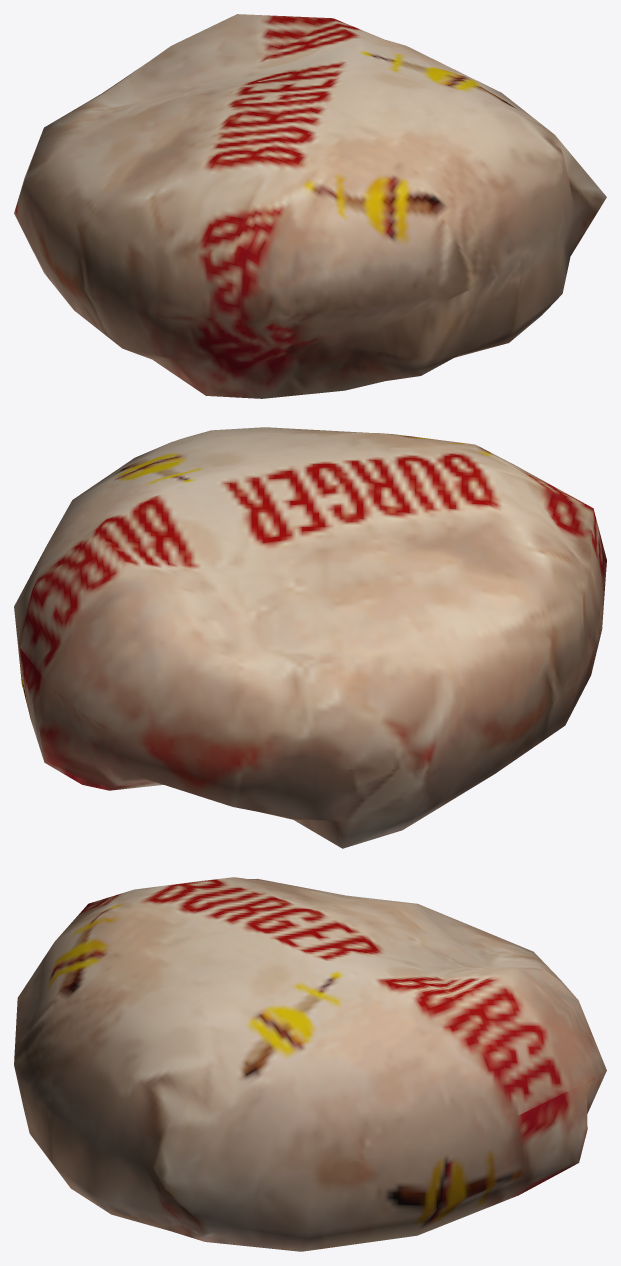
Rendered from pack_burger.FBX.
The picture shows the model from 3 angles, top to bottom: view 1: azimuth 30°, elevation 25°; view 2: azimuth 150°, elevation 25°; view 3: azimuth 270°, elevation 25°; orthographic projection. The views are drawn at different scales.
Parts seen in each view (by area): view 1: pack_burger_LOD00; view 2: pack_burger_LOD00; view 3: pack_burger_LOD00.
Boxes of the visible parts, left/top/right/bottom form: pack_burger_LOD00: left=14, top=14, right=606, bottom=398; pack_burger_LOD00: left=14, top=427, right=606, bottom=848; pack_burger_LOD00: left=14, top=877, right=606, bottom=1251.
Size of what is drawn, in the model's own units: 5.67 by 2.71 by 6.01.
